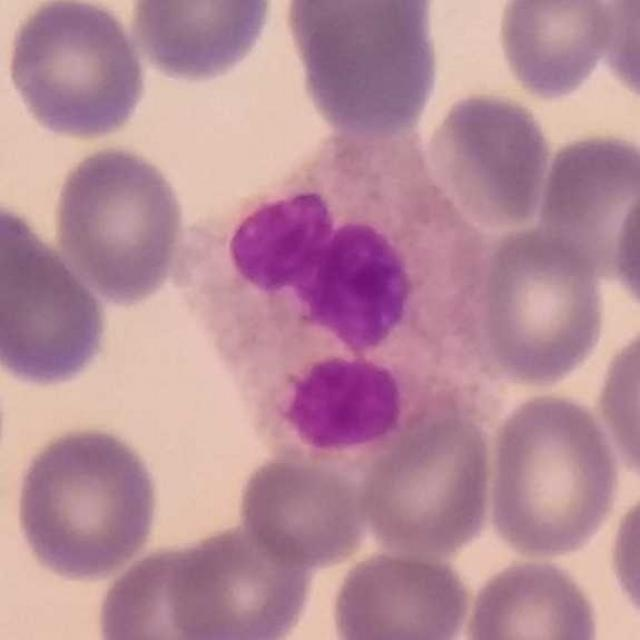Neutrophil: (166, 121, 494, 450)
RBC: (9, 421, 165, 584), (482, 387, 623, 562), (49, 140, 189, 307), (474, 222, 609, 390), (0, 199, 114, 392), (356, 406, 499, 559), (287, 2, 443, 139), (2, 0, 150, 144), (422, 88, 556, 229), (162, 520, 318, 640), (234, 453, 370, 570), (91, 538, 240, 640), (326, 546, 475, 640), (533, 128, 640, 255), (126, 0, 278, 87), (493, 0, 619, 102), (460, 554, 604, 640), (278, 1, 436, 62), (592, 315, 640, 491), (604, 481, 640, 632), (594, 0, 640, 109), (609, 170, 640, 324)
